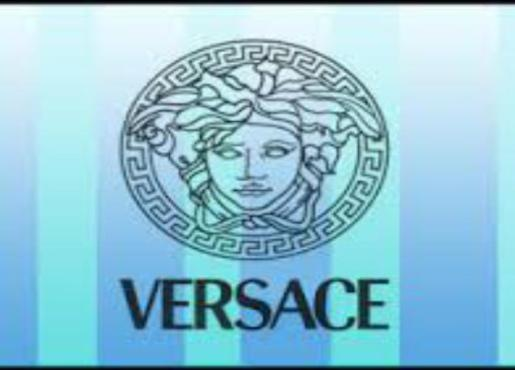VERSACE: (95, 26, 409, 335)
